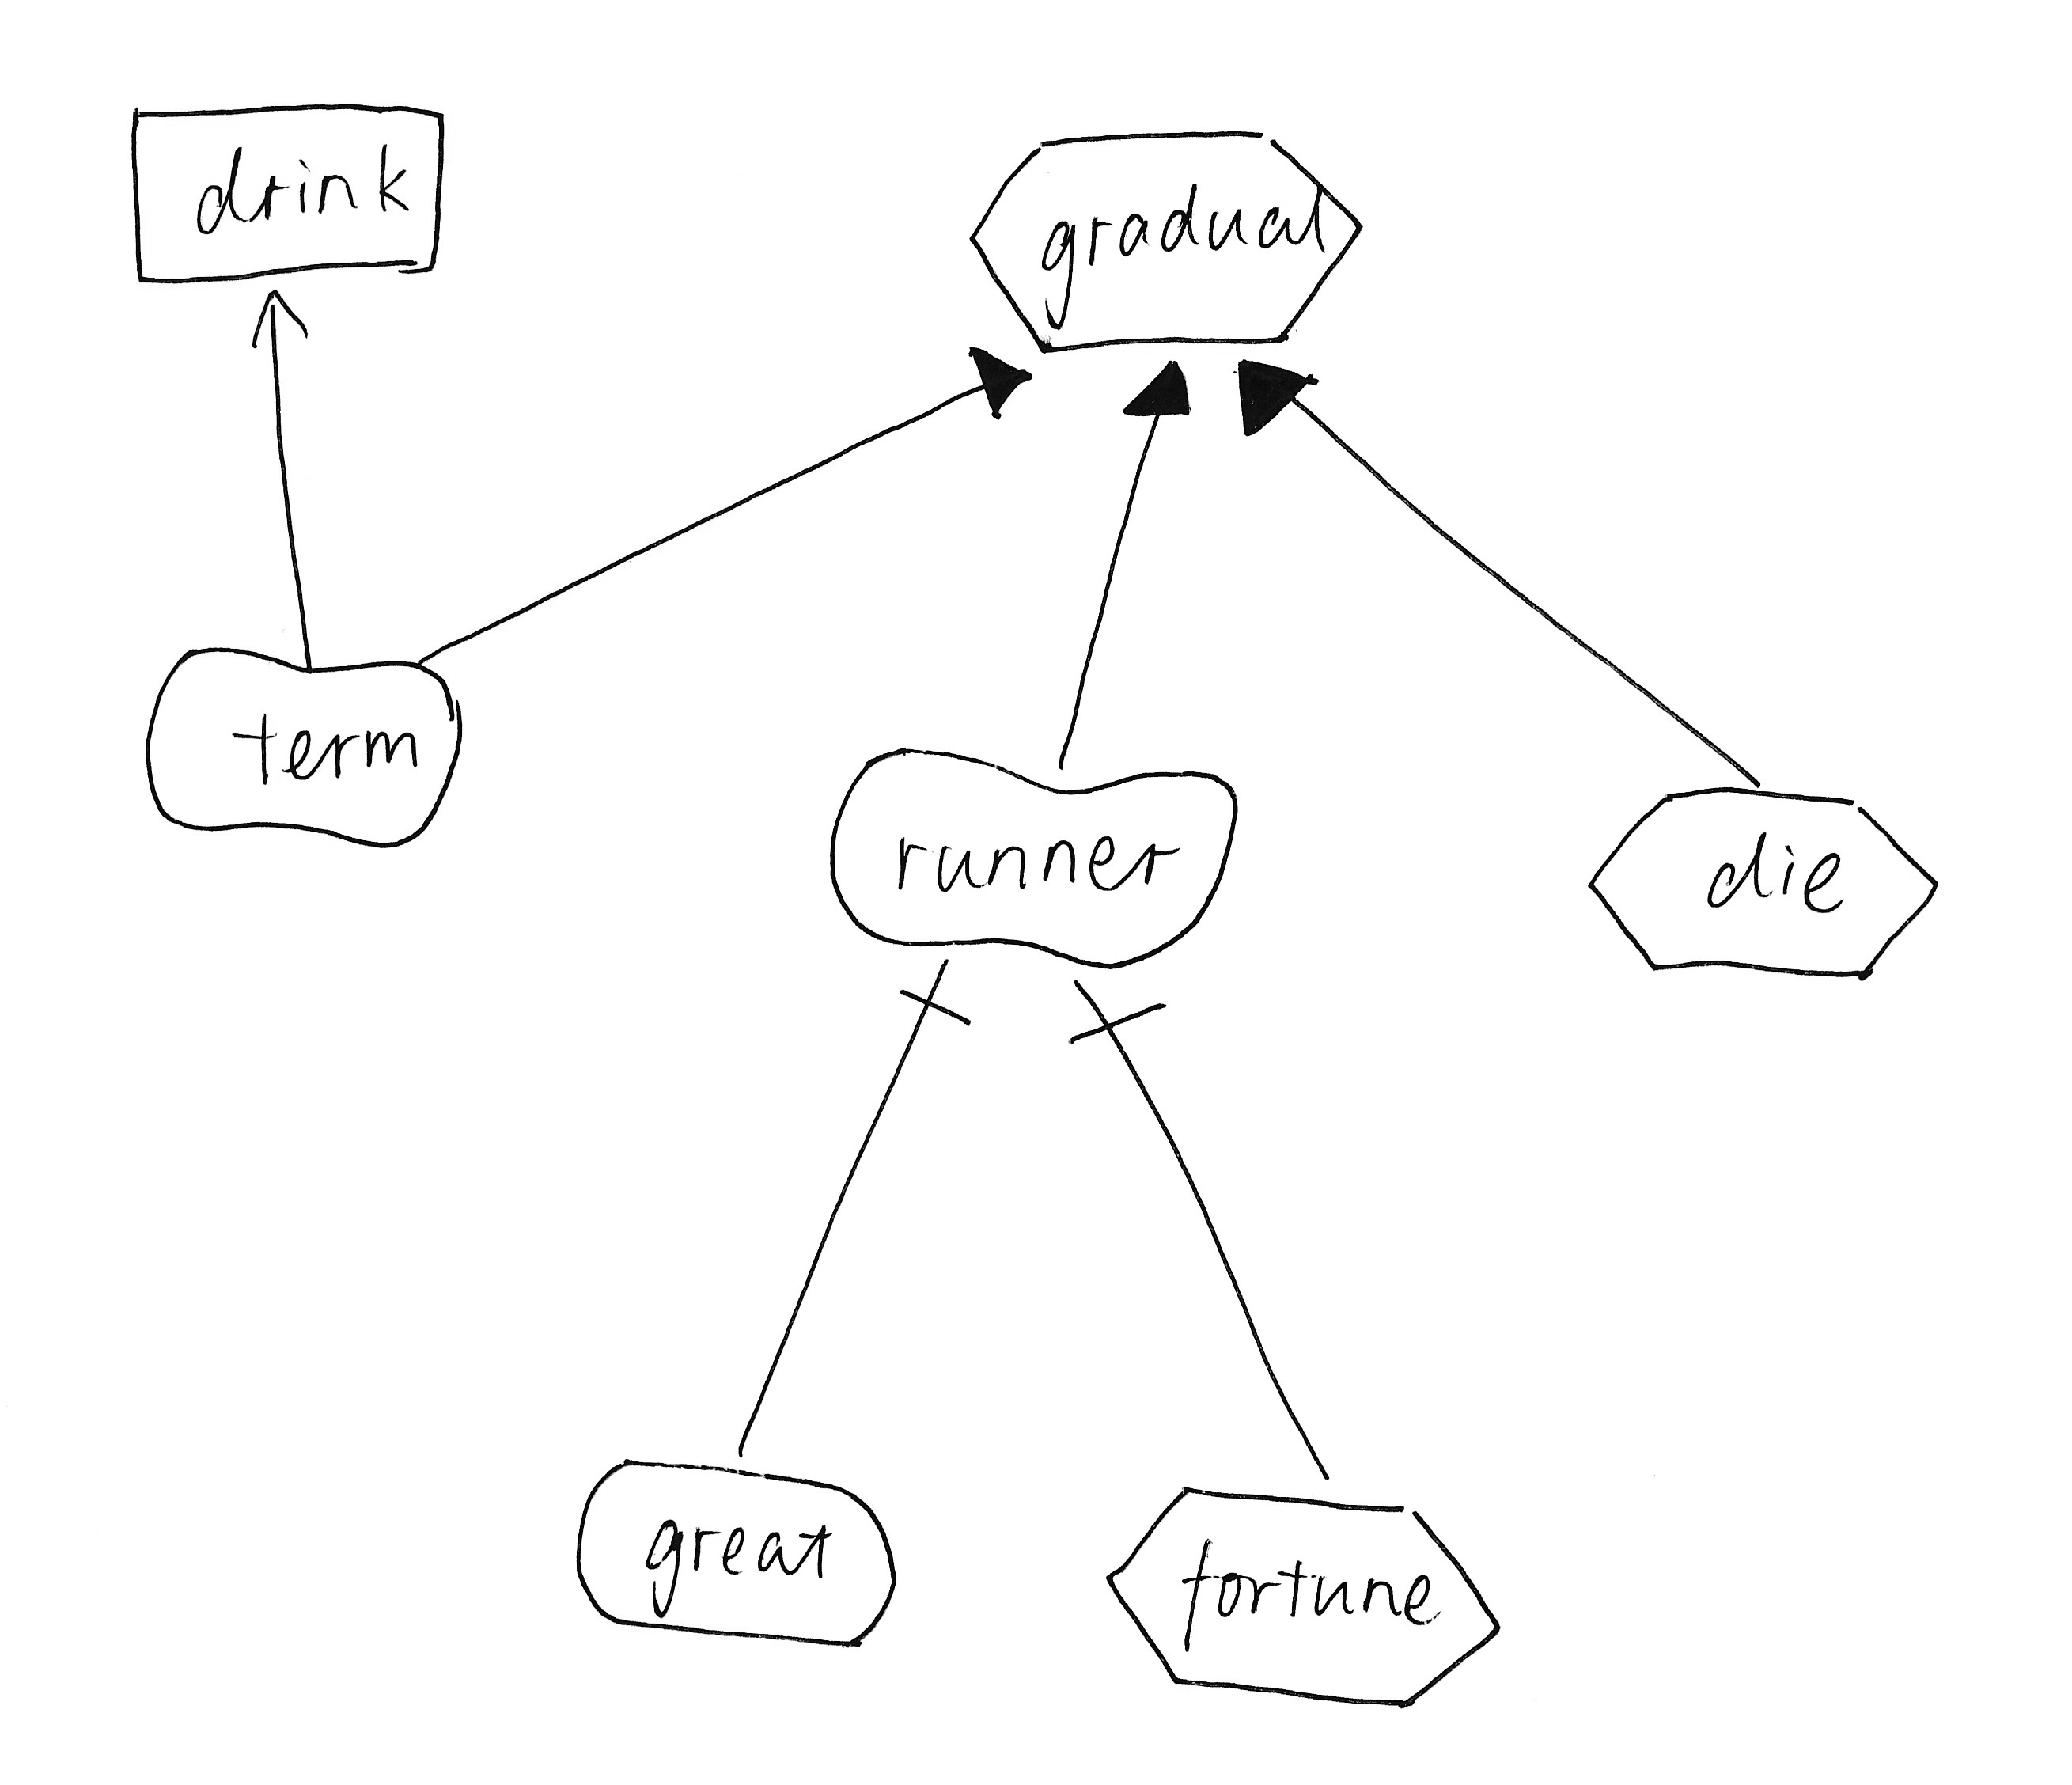and: (1052, 966, 1184, 1082), (886, 952, 981, 1047)
arrow: (234, 280, 321, 363)
goal: (559, 1440, 911, 1663)
or: (1223, 349, 1330, 451), (958, 335, 1047, 439), (1112, 351, 1203, 435)
quality: (807, 731, 1251, 980), (130, 627, 474, 869)
resource: (102, 79, 474, 300)
task: (1084, 1466, 1517, 1736), (953, 107, 1374, 368), (1568, 775, 1963, 997)
